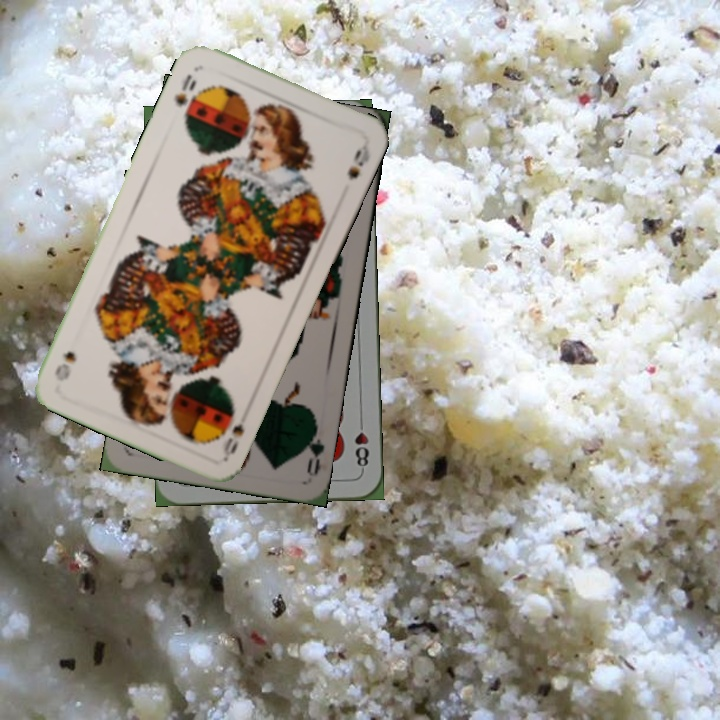GO: (299, 418, 327, 478)
H8: (351, 415, 372, 474)
SO: (170, 70, 199, 120), (219, 419, 247, 461)
